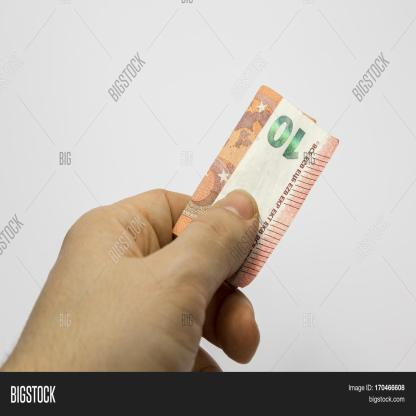billete: (171, 84, 340, 292)
